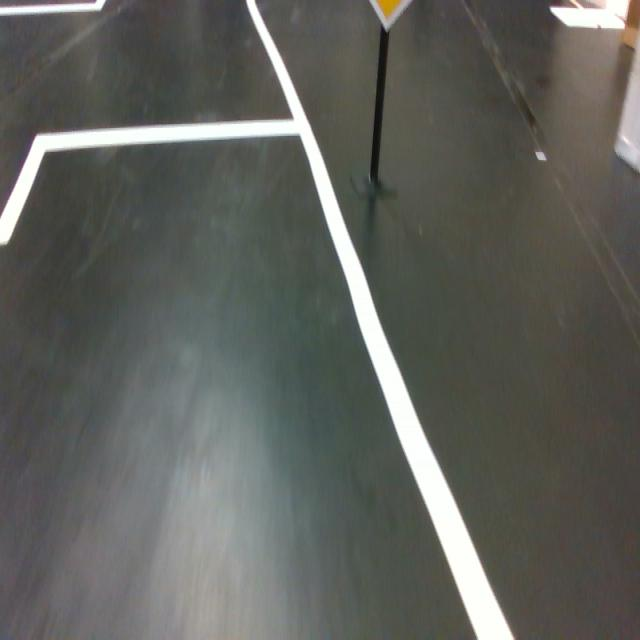priority-sign: (368, 0, 414, 34)
